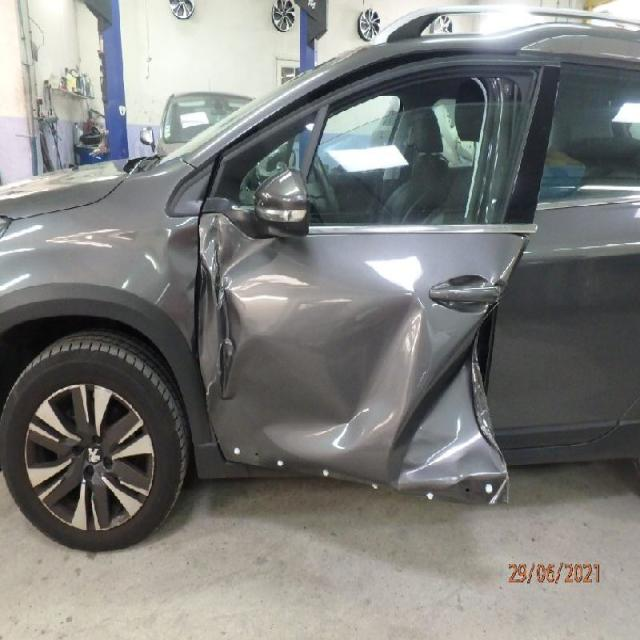porte-avant: (193, 59, 564, 508)
